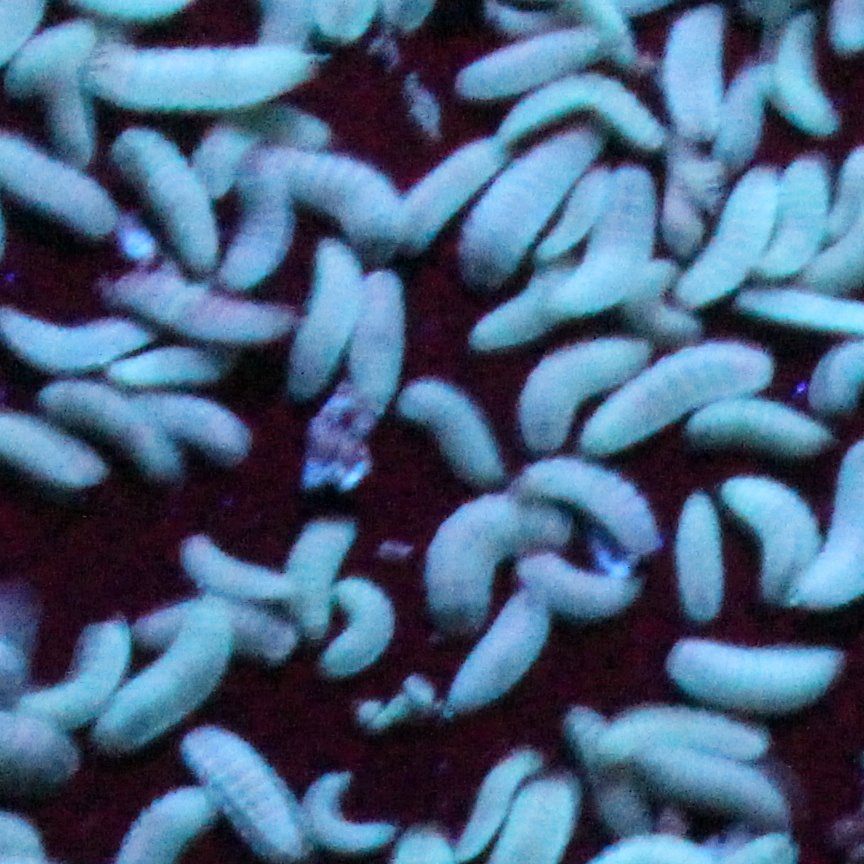larve: (431, 482, 565, 623), (463, 140, 597, 277), (100, 618, 232, 753), (592, 351, 761, 442), (668, 634, 842, 715), (566, 166, 660, 315), (724, 473, 827, 602), (442, 598, 559, 711), (522, 460, 663, 553), (114, 141, 214, 262), (683, 173, 776, 302), (457, 25, 607, 103), (401, 137, 501, 251), (49, 383, 174, 473), (102, 47, 302, 103), (560, 706, 646, 835), (125, 273, 275, 345), (2, 133, 104, 238), (586, 711, 770, 769), (643, 744, 780, 820), (504, 341, 617, 433), (767, 18, 852, 137), (150, 602, 296, 667), (477, 257, 578, 344), (221, 154, 297, 267), (288, 256, 353, 388), (408, 385, 493, 484), (303, 153, 393, 246), (663, 13, 725, 141), (506, 94, 665, 142), (531, 558, 641, 625), (3, 22, 100, 97), (304, 775, 393, 854), (290, 514, 340, 643), (184, 538, 285, 601), (675, 496, 724, 624), (767, 166, 826, 271), (691, 406, 814, 456), (160, 393, 245, 465), (326, 585, 390, 677), (547, 173, 619, 245), (359, 275, 398, 406), (725, 63, 770, 169), (462, 750, 508, 839), (113, 351, 229, 381)
